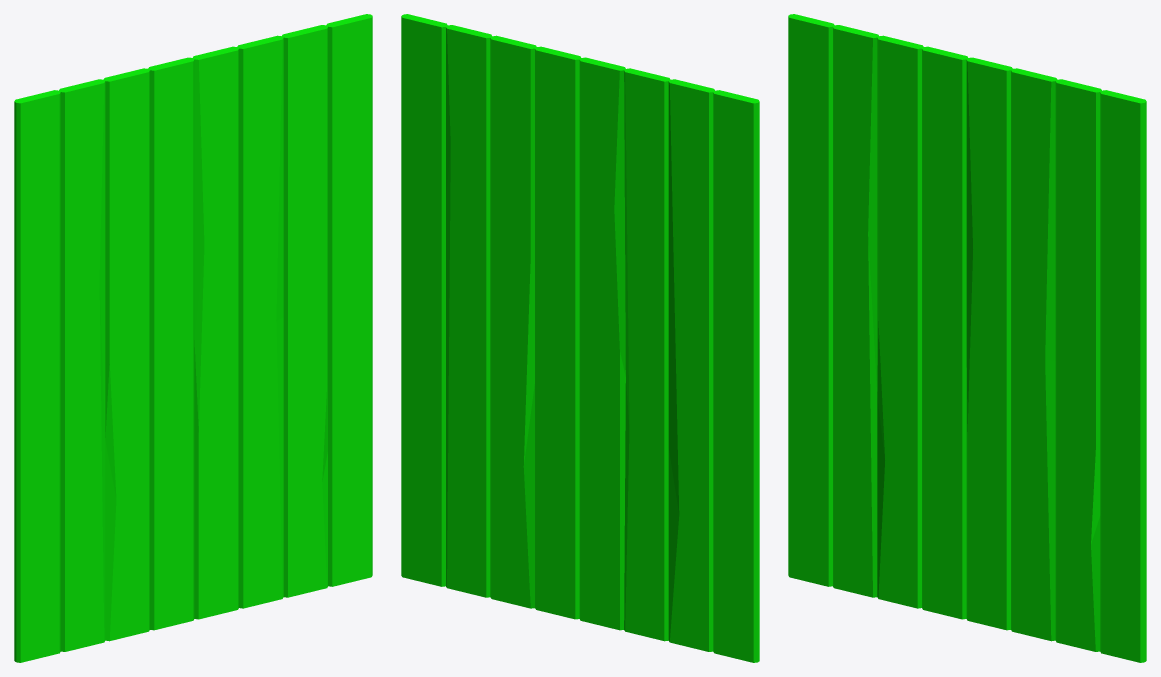
The model's file is SM_Wall_Deco_Wood_2x3m.fbx.
3 views of the same model, side by side, from view 1: azimuth 30°, elevation 25°; view 2: azimuth 150°, elevation 25°; view 3: azimuth 330°, elevation 25° (orthographic).
Parts seen in each view (by area): view 1: wall-deco-wood-2x3m; view 2: wall-deco-wood-2x3m; view 3: wall-deco-wood-2x3m.
Part boxes in pixels (left/top/right/bottom): wall-deco-wood-2x3m: left=14, top=14, right=372, bottom=662; wall-deco-wood-2x3m: left=401, top=14, right=759, bottom=662; wall-deco-wood-2x3m: left=788, top=14, right=1146, bottom=662.
Size of the model in its own units: 2 by 3 by 0.0507.
